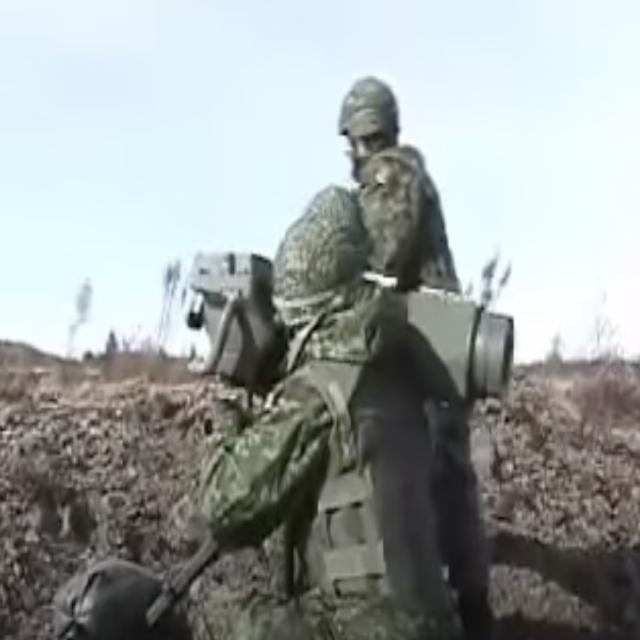bazooka: (175, 222, 529, 421)
